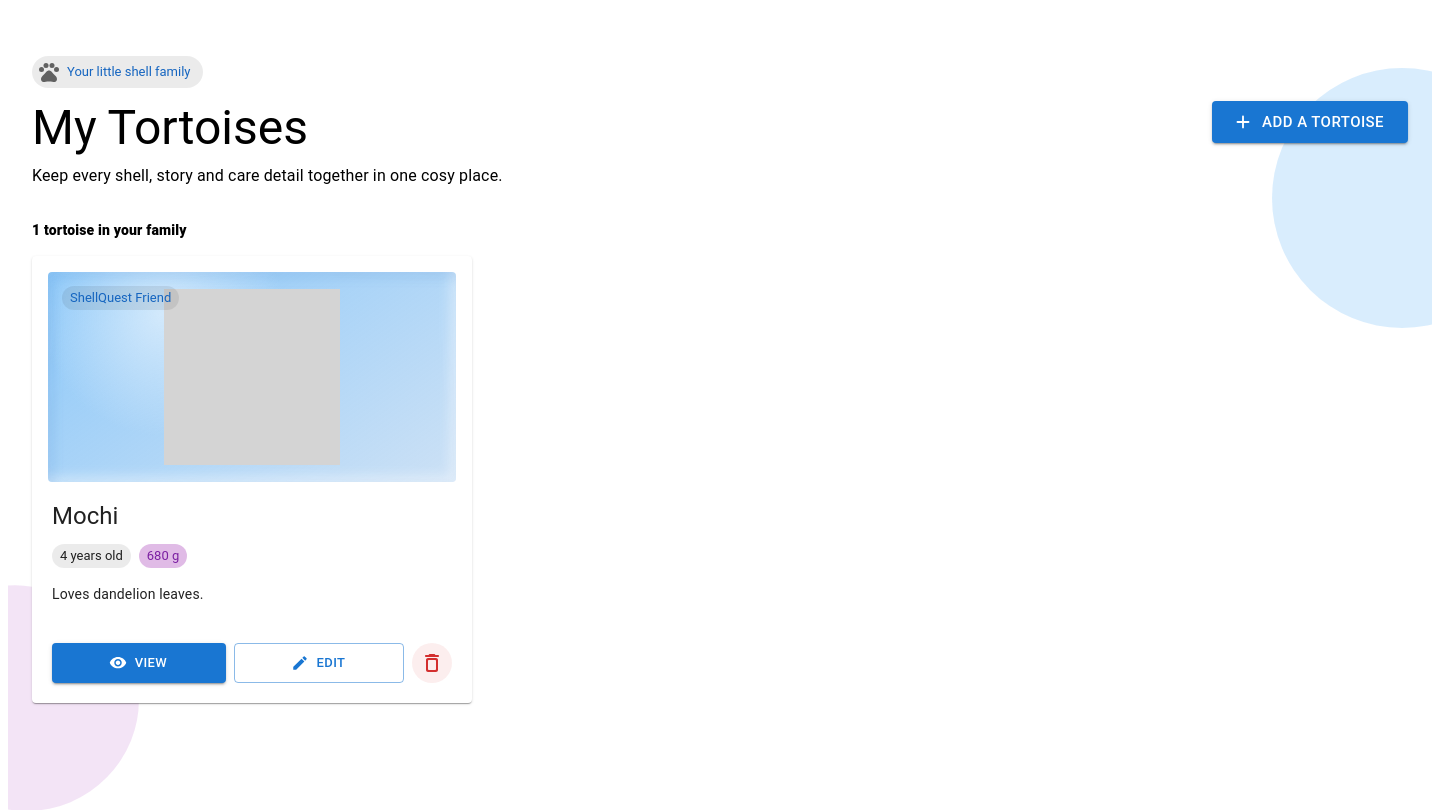
Test: MyTortoisesPage › deletes the selected tortoise after confirmation
The image size is (1440, 810).
Expected: the heading "Mochi" is shown, [52,502,118,530]
Click the button named "Delete Mochi". click: coordinates (432, 663)
box: [412,643,452,683]
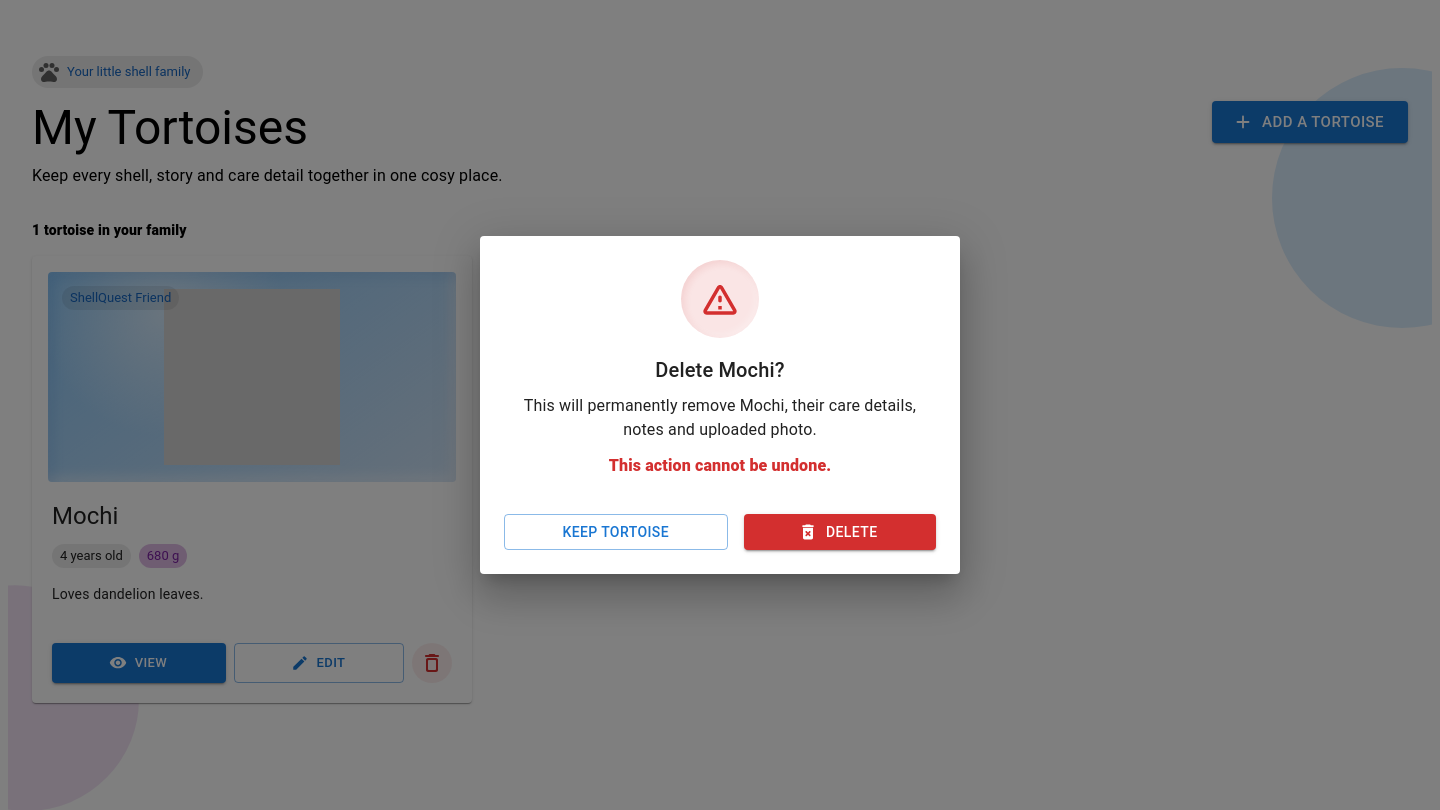
Click the button "Delete". click: coordinates (840, 532)
box: [744,514,936,550]
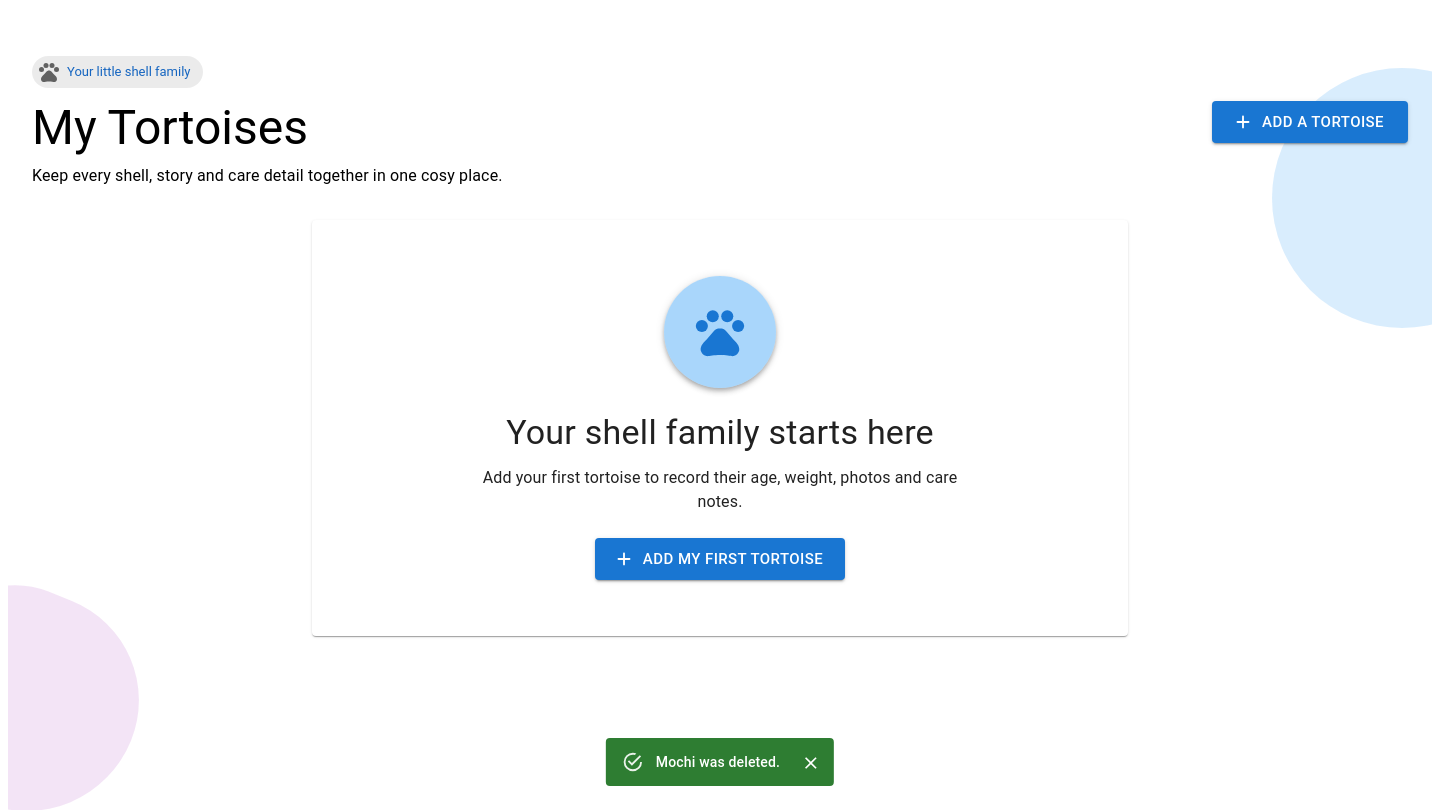
Result: the heading "Your shell family starts here" is shown at [506,412,934,452]
Result: the text "Mochi was deleted." is shown at [656,754,780,770]
